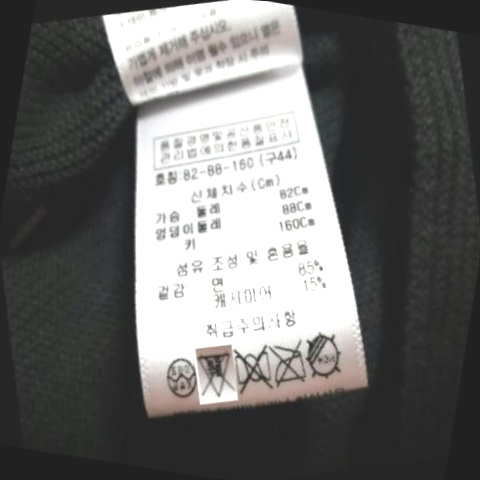DN_iron: (269, 339, 312, 391)
DN_wring: (233, 341, 277, 395)
dry_clean_petrol_only: (161, 347, 202, 403)
dry_flat_in_shade: (298, 325, 348, 386)
non_chlorine_bleach: (194, 344, 237, 400)
